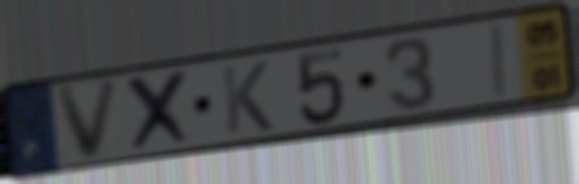3: (382, 33, 439, 114)
5: (294, 45, 345, 126)
I: (489, 20, 511, 102)
K: (217, 59, 276, 137)
V: (52, 75, 125, 164)
X: (123, 66, 198, 157)
